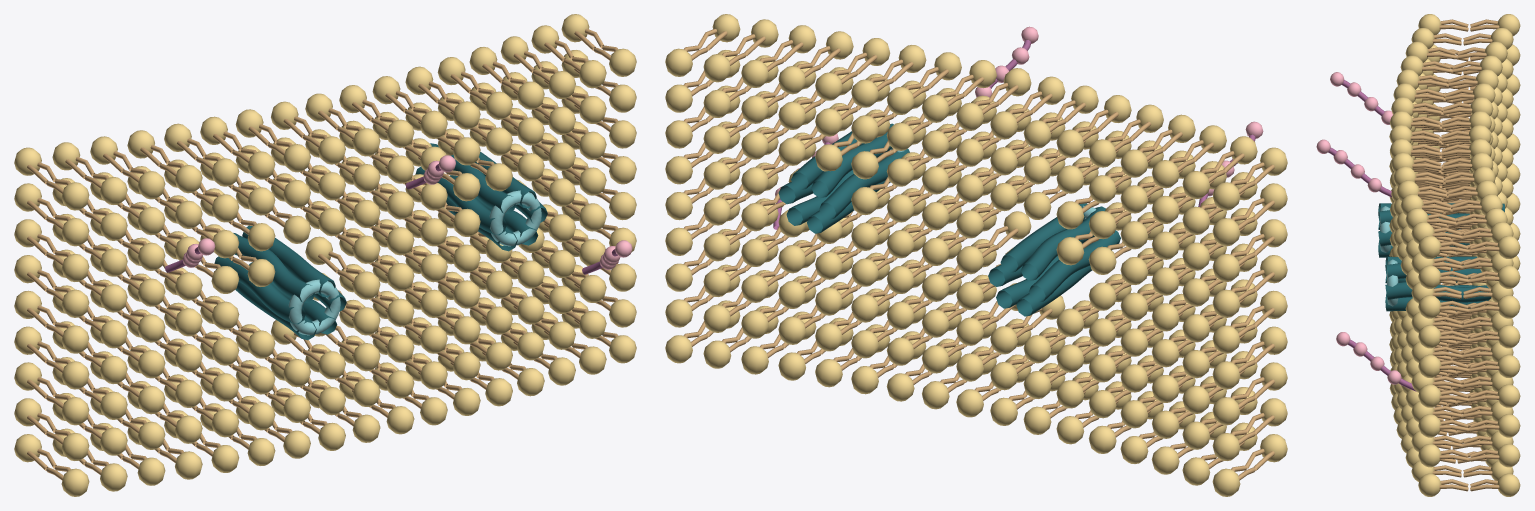
Rendered from membrane.glb.
The picture shows the model from 3 angles, left to right: view 1: azimuth 30°, elevation 25°; view 2: azimuth 150°, elevation 25°; view 3: azimuth 270°, elevation 25°; orthographic projection. The views are drawn at different scales.
Parts seen in each view (by area): view 1: phospholipid-heads, hydrophobic-tails, transmembrane-proteins, channel-mouth, glycan-sugars; view 2: phospholipid-heads, hydrophobic-tails, transmembrane-proteins, glycan-sugars; view 3: phospholipid-heads, hydrophobic-tails, transmembrane-proteins, glycan-sugars, extracellular-glycans, channel-mouth.
Boxes of the visible parts, x1=… form: phospholipid-heads: x1=14, y1=14, x2=636, y2=496; hydrophobic-tails: x1=27, y1=28, x2=618, y2=480; transmembrane-proteins: x1=214, y1=143, x2=547, y2=340; channel-mouth: x1=288, y1=190, x2=541, y2=335; glycan-sugars: x1=182, y1=155, x2=632, y2=269; phospholipid-heads: x1=665, y1=14, x2=1287, y2=496; hydrophobic-tails: x1=683, y1=28, x2=1274, y2=480; transmembrane-proteins: x1=778, y1=123, x2=1120, y2=316; glycan-sugars: x1=775, y1=26, x2=1263, y2=199; phospholipid-heads: x1=1389, y1=14, x2=1520, y2=496; hydrophobic-tails: x1=1410, y1=19, x2=1499, y2=491; transmembrane-proteins: x1=1378, y1=203, x2=1504, y2=311; glycan-sugars: x1=1316, y1=72, x2=1401, y2=384; extracellular-glycans: x1=1328, y1=80, x2=1416, y2=391; channel-mouth: x1=1380, y1=206, x2=1398, y2=306.
Bounding box in the file's own units: 8.34 × 4.36 × 3.11.
